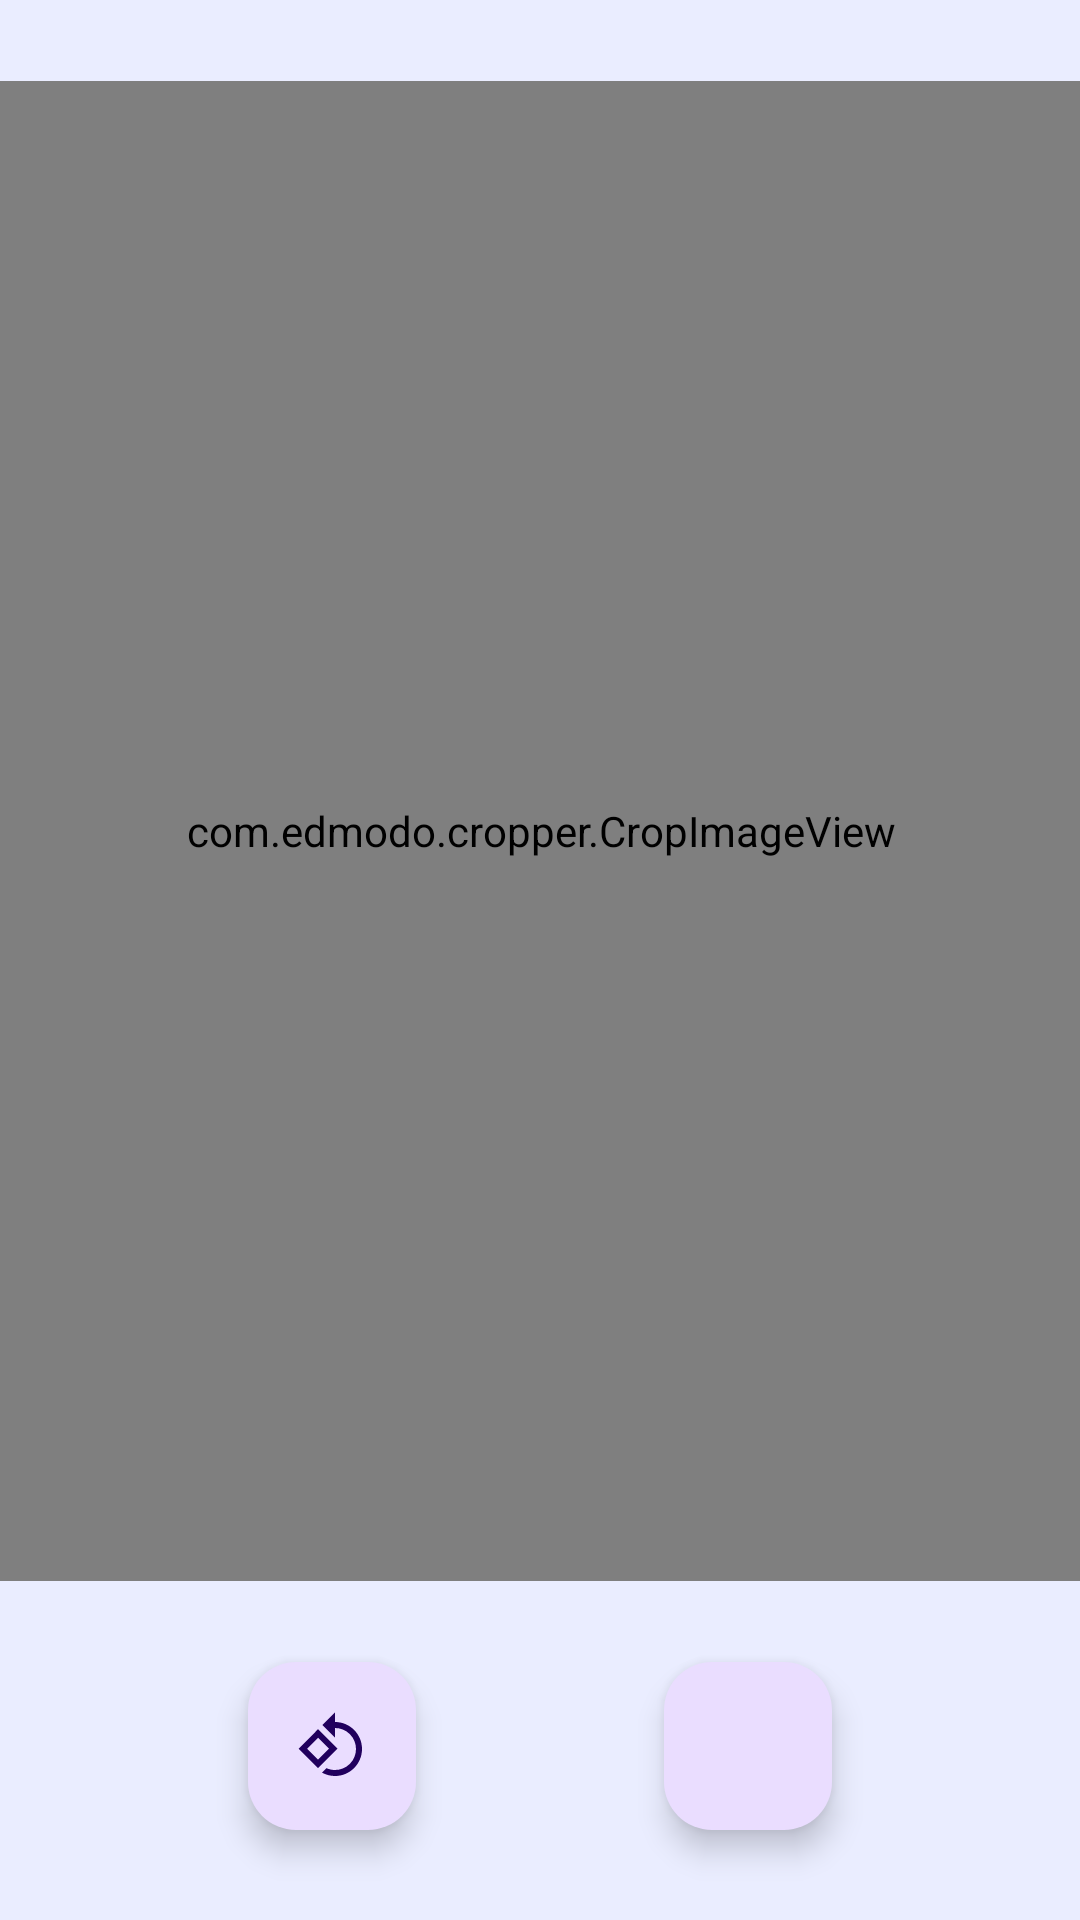

Icon bounding boxes for this 1080px×1920px phone screenshot, format bbox=(x1, y1, x2, y2):
rotate: bbox=(248, 1662, 416, 1830)
